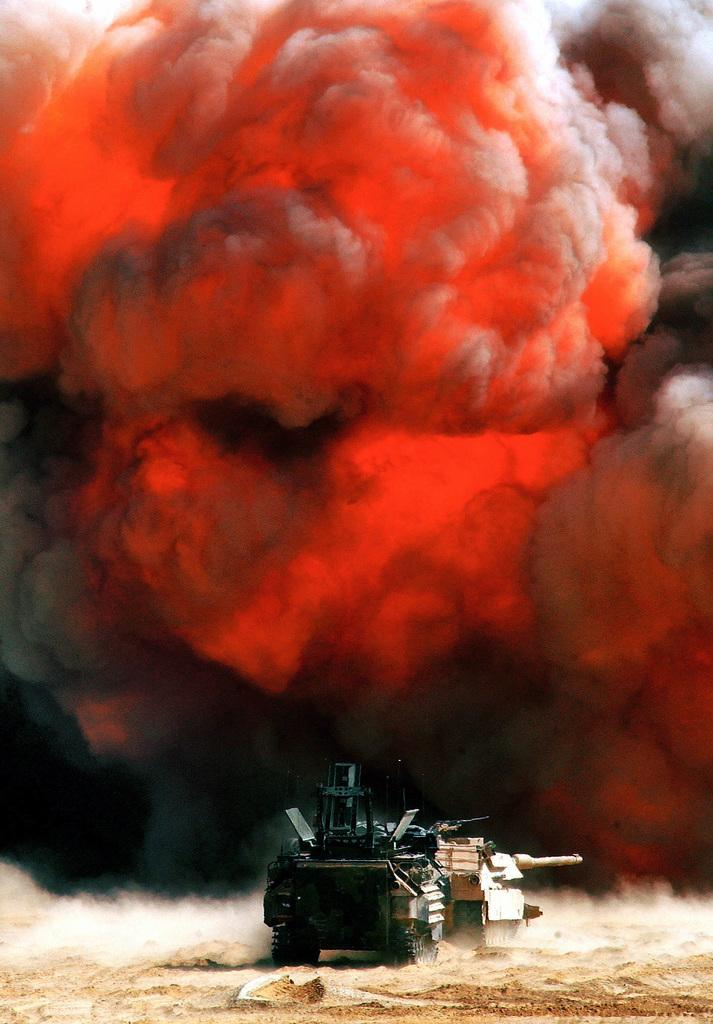Tank: (262, 757, 449, 963), (429, 815, 586, 946)
